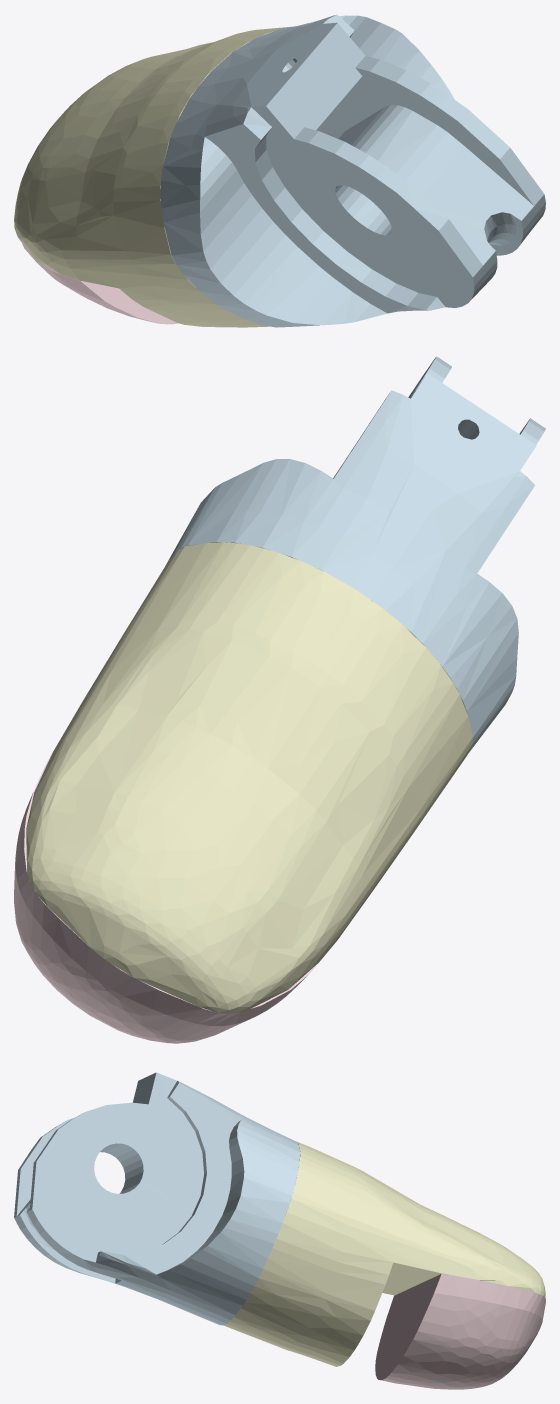
Rendered from i02_rightHand_majeureTip_visual.obj.light.glb.
The picture shows the model from 3 angles, top to bottom: view 1: azimuth 30°, elevation 25°; view 2: azimuth 150°, elevation 25°; view 3: azimuth 270°, elevation 25°; orthographic projection. The views are drawn at different scales.
Bounding box in the file's own units: 0.158 × 0.2377 × 0.3768.
